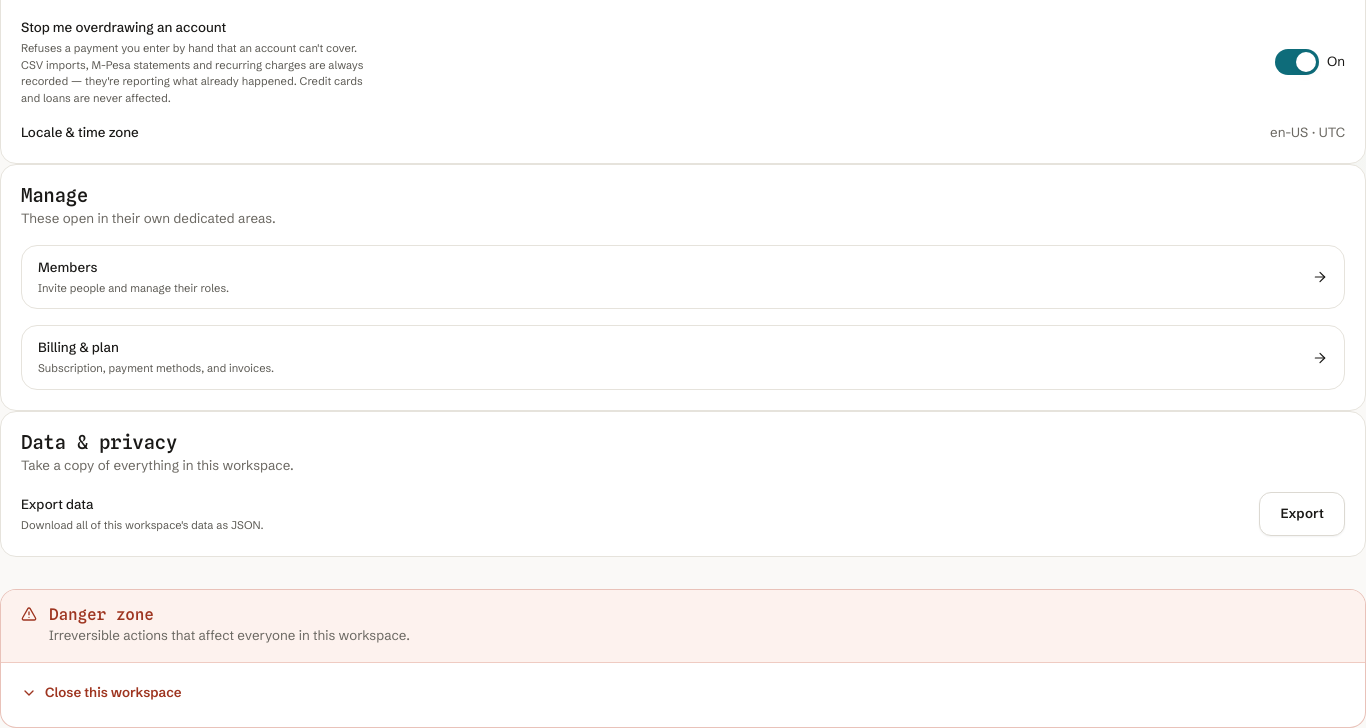
WorkspacePanel data & privacy › guards closure behind typing the exact workspace name
This screenshot has width=1366, height=728.
(page scrolled)
Reveal the advanced closure disclosure.
Click the button "Close this workspace": (101, 693) left=21, top=683, right=182, bottom=703
(page scrolled)
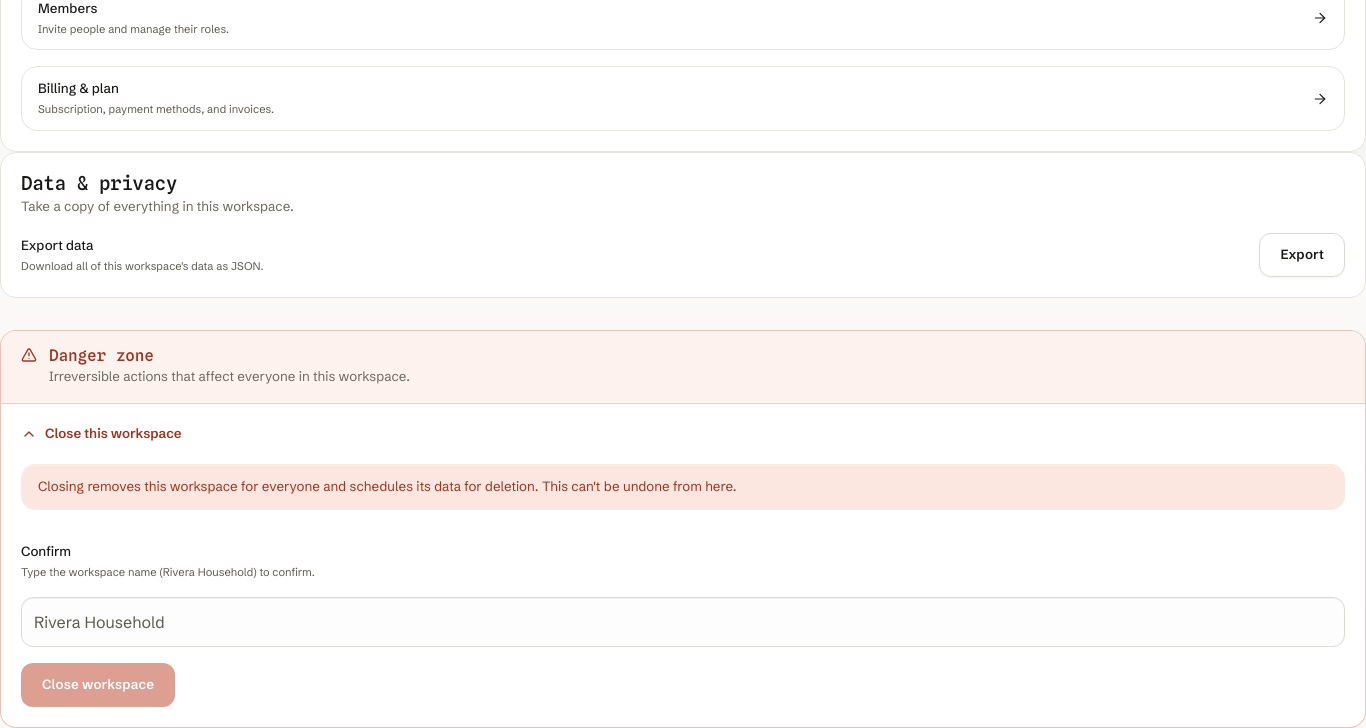
Check: the button "Close workspace" is disabled, box left=21, top=663, right=175, bottom=707
In the field labelled "Confirm": (683, 622) left=21, top=597, right=1345, bottom=647, type "wrong"
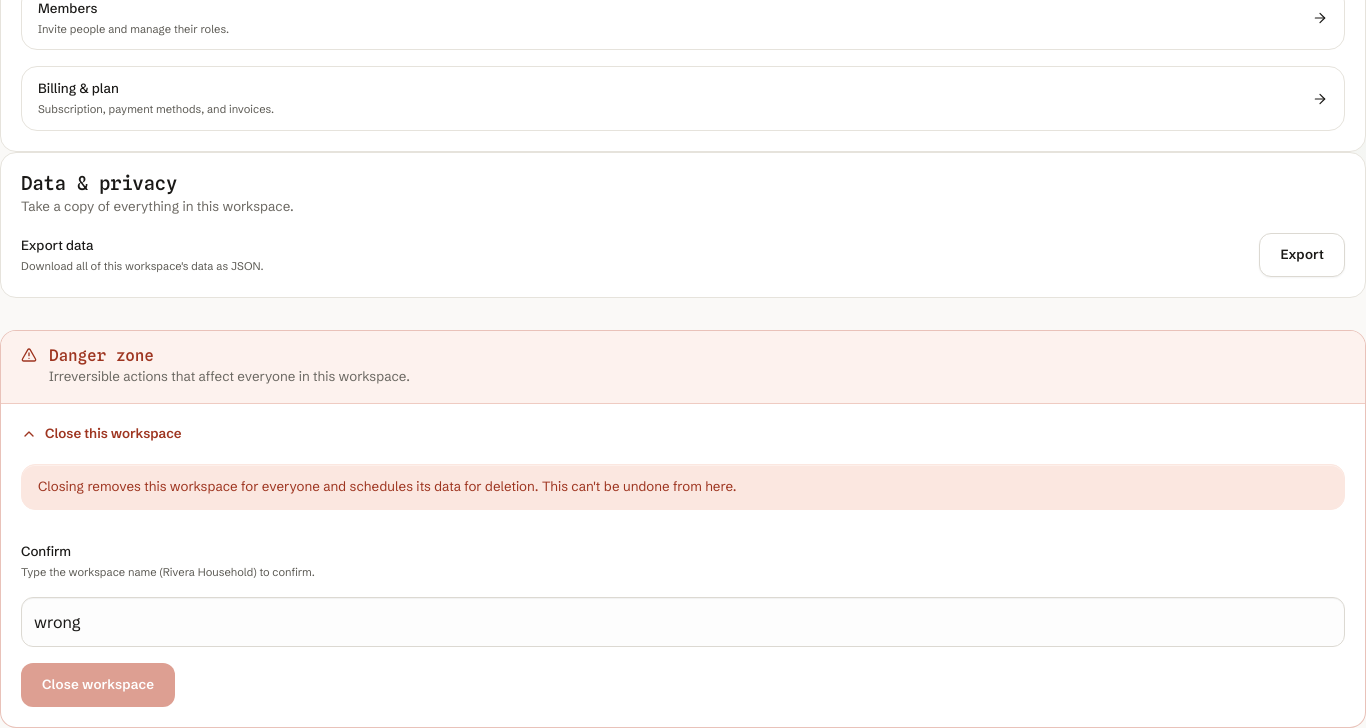
Check: the button "Close workspace" is disabled, box left=21, top=663, right=175, bottom=707
Replace the text in the field labelled "Confirm" with "Rivera Household": (683, 622) left=21, top=597, right=1345, bottom=647
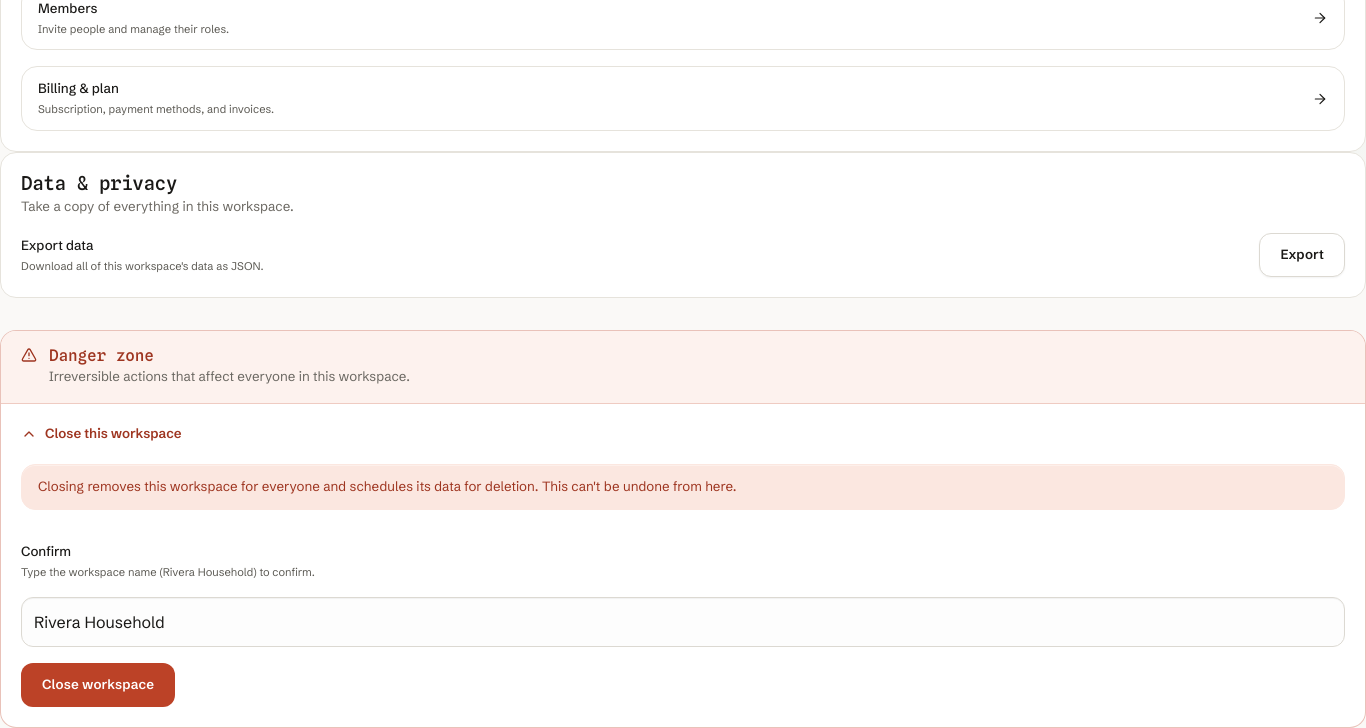
Check: the button "Close workspace" is enabled, box left=21, top=663, right=175, bottom=707
